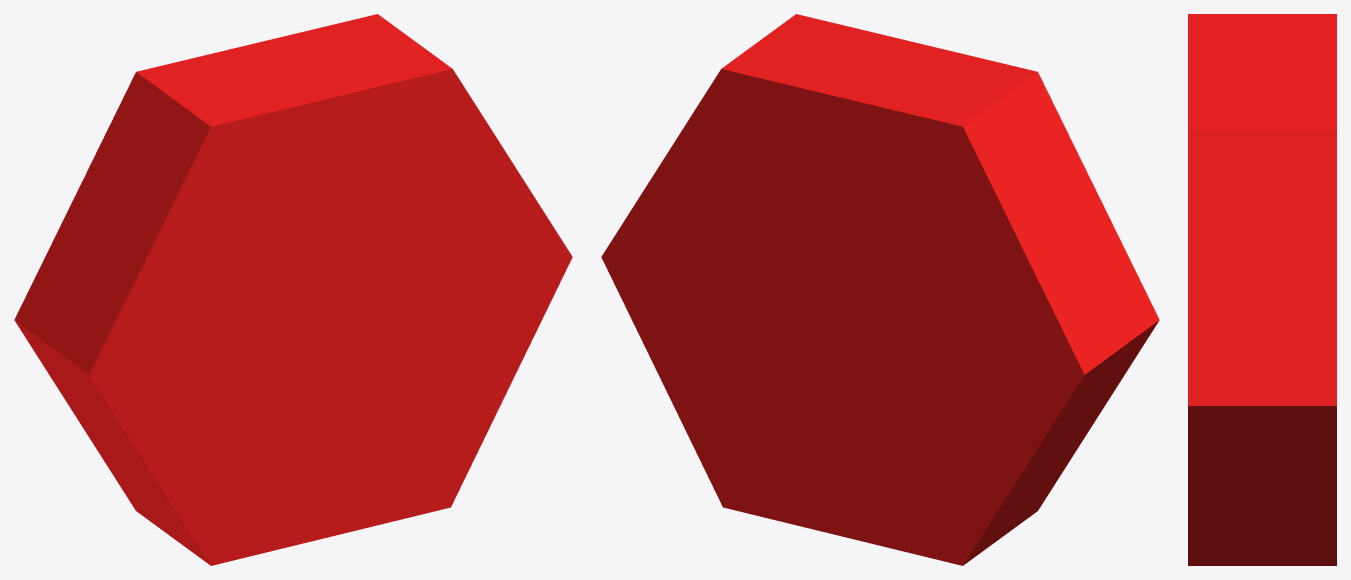
The model's file is shape_hexagon.obj.
3 views of the same model, side by side, from view 1: azimuth 30°, elevation 25°; view 2: azimuth 150°, elevation 25°; view 3: azimuth 270°, elevation 25° (orthographic).
Visible parts, largest first — view 1: Object.1; view 2: Object.1; view 3: Object.1.
Part boxes in pixels (x1,y1,x2,y2): Object.1: (14, 14, 572, 565); Object.1: (601, 14, 1159, 565); Object.1: (1188, 14, 1336, 565).
Size of the model in its own units: 57.59 by 50 by 15.49.
